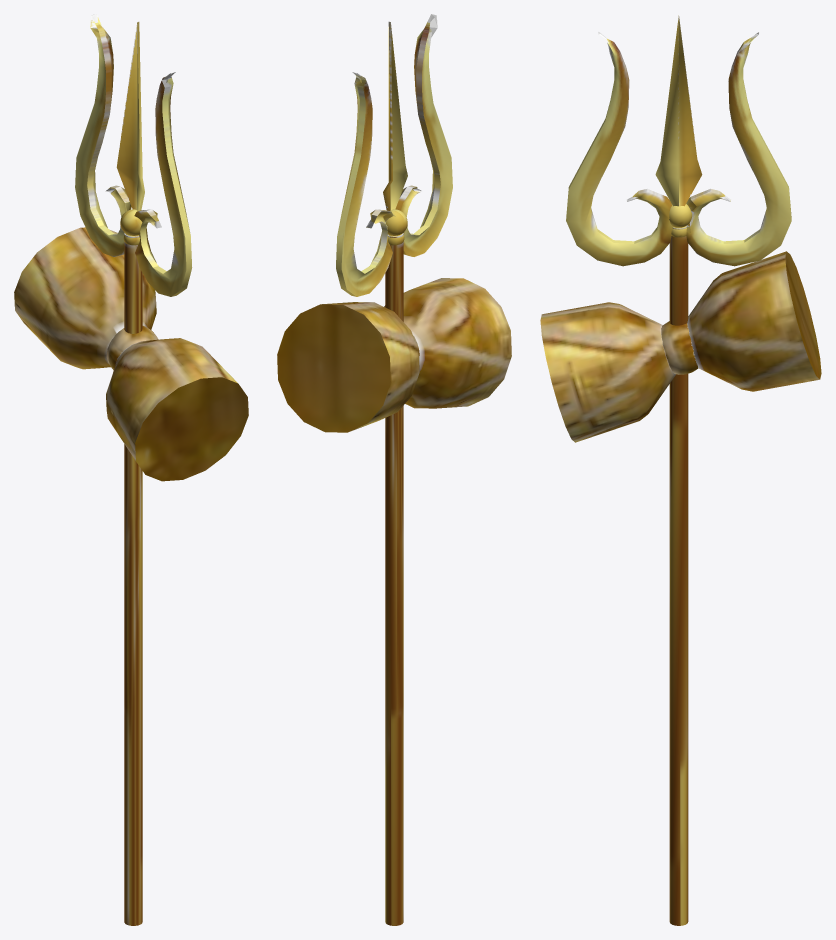
The model's file is Trishul - Copy.fbx.
3 renders of one model, left to right at view 1: azimuth 30°, elevation 25°; view 2: azimuth 150°, elevation 25°; view 3: azimuth 270°, elevation 25°, orthographic.
Visible parts, largest first — view 1: Sphere.002, Cylinder, Plane.001, Plane; view 2: Sphere.002, Cylinder, Plane.001, Plane; view 3: Sphere.002, Plane.001, Cylinder, Plane.
Part boxes in pixels (x1,y1,x2,y2): Sphere.002: (14,227,248,481); Cylinder: (124,233,142,925); Plane.001: (75,14,192,296); Plane: (116,21,144,211); Sphere.002: (277,278,511,432); Cylinder: (385,233,403,925); Plane.001: (336,14,452,296); Plane: (383,21,407,211); Sphere.002: (540,251,821,442); Plane.001: (566,32,791,266); Cylinder: (669,226,688,925); Plane: (655,15,702,206).
Size of the model in its own units: 1.6 by 12.1 by 3.39.
